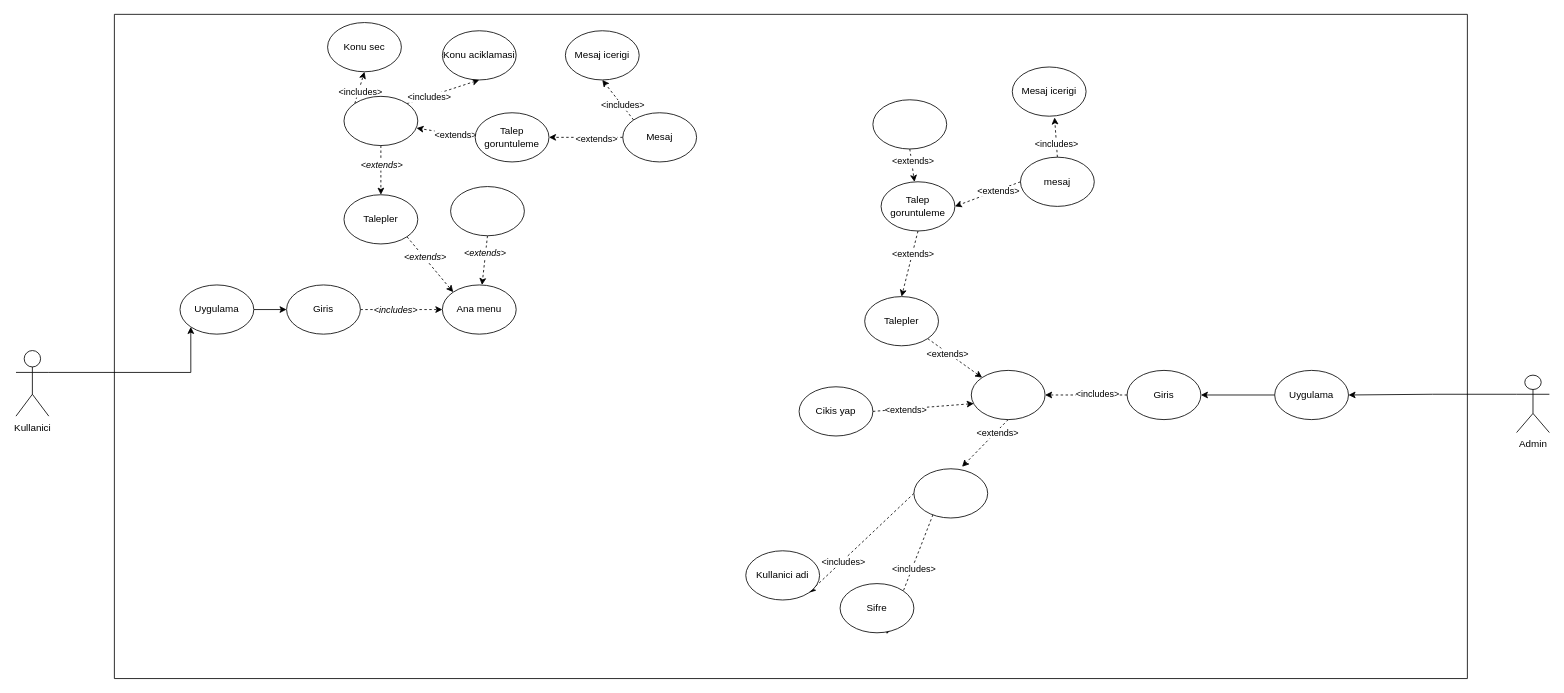
The diagram is 1564 pixels wide and 693 high, and some of its shapes have lost their labels. Each missing label, with the centre of its shape:
"Admin menu" belongs at [1007,395].
"Cikis yapma" belongs at [487,211].
"Kullanici ekle" belongs at [950,493].
"Talep Olusturma" belongs at [380,121].
"Talep Silme" belongs at [909,124].
